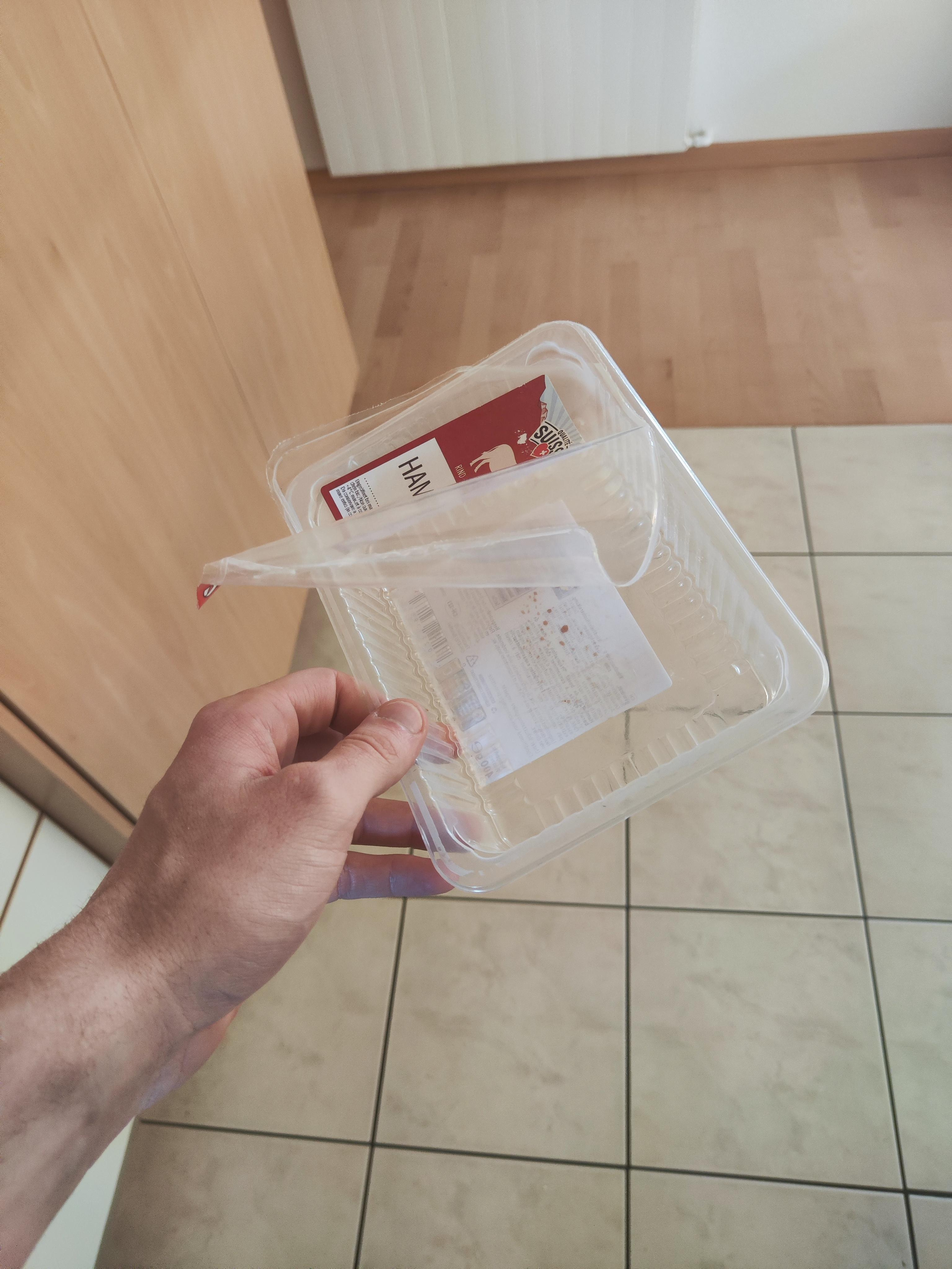Plastic: (190, 294, 838, 908)
